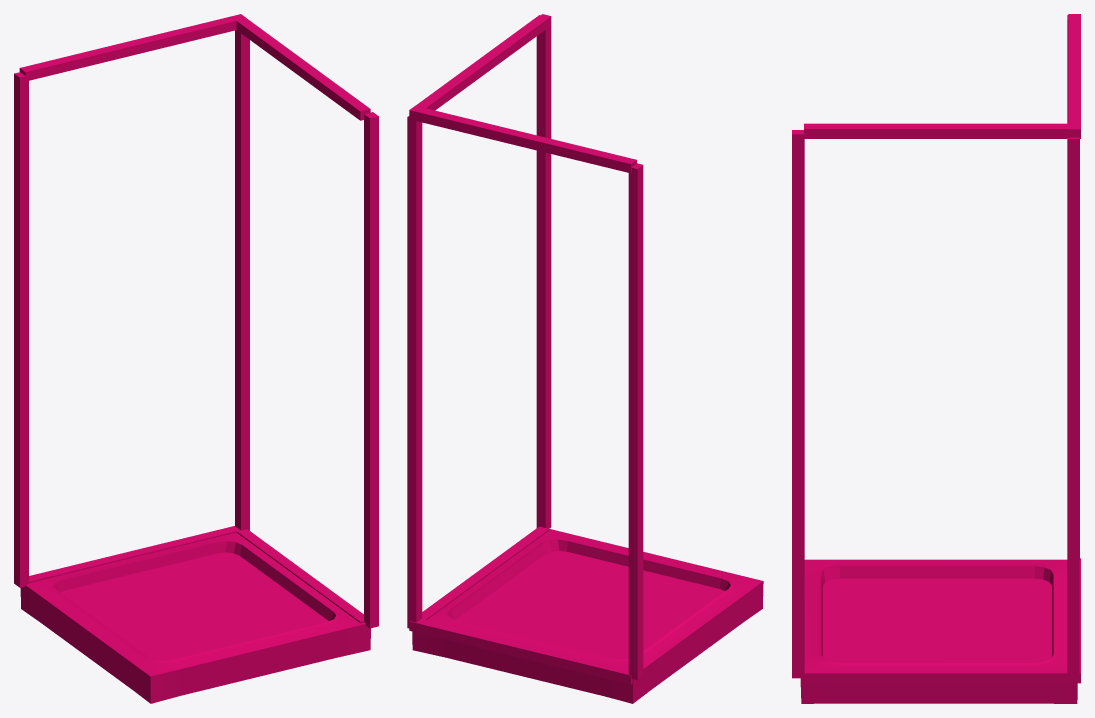
The model's file is Shower_01.fbx.
3 views of the same model, side by side, from view 1: azimuth 30°, elevation 25°; view 2: azimuth 150°, elevation 25°; view 3: azimuth 270°, elevation 25° (orthographic). The views are drawn at different scales.
Parts seen in each view (by area): view 1: Shower_01; view 2: Shower_01; view 3: Shower_01.
Part boxes in pixels (x1,y1,x2,y2): Shower_01: [14, 14, 378, 703]; Shower_01: [407, 14, 763, 703]; Shower_01: [792, 14, 1080, 703].
Size of the model in its own units: 102 by 230 by 104.
